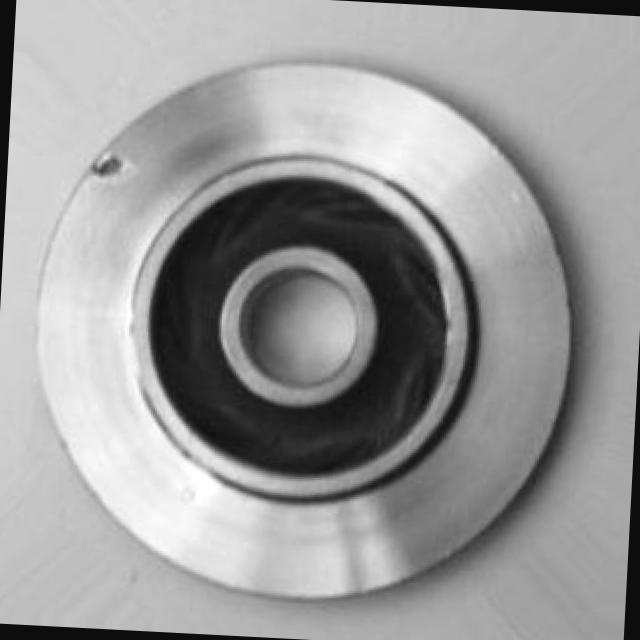Defect: (86, 146, 147, 187)
